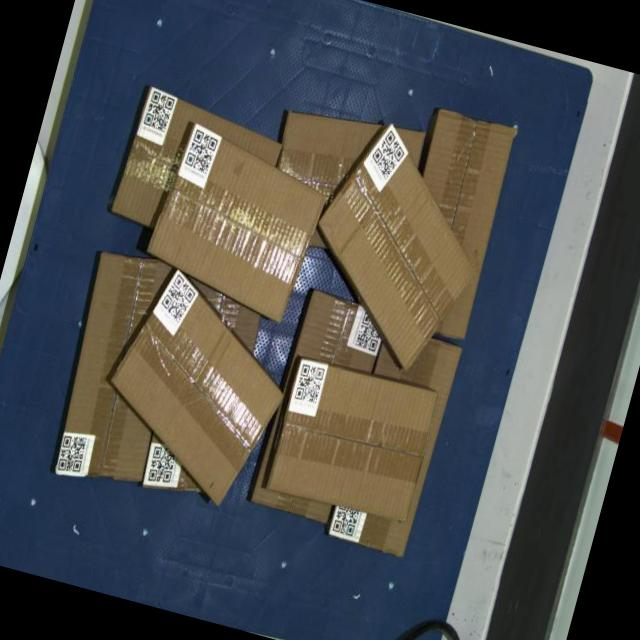box: (286, 110, 507, 383), (86, 258, 308, 514), (138, 118, 336, 326), (266, 356, 440, 525)
